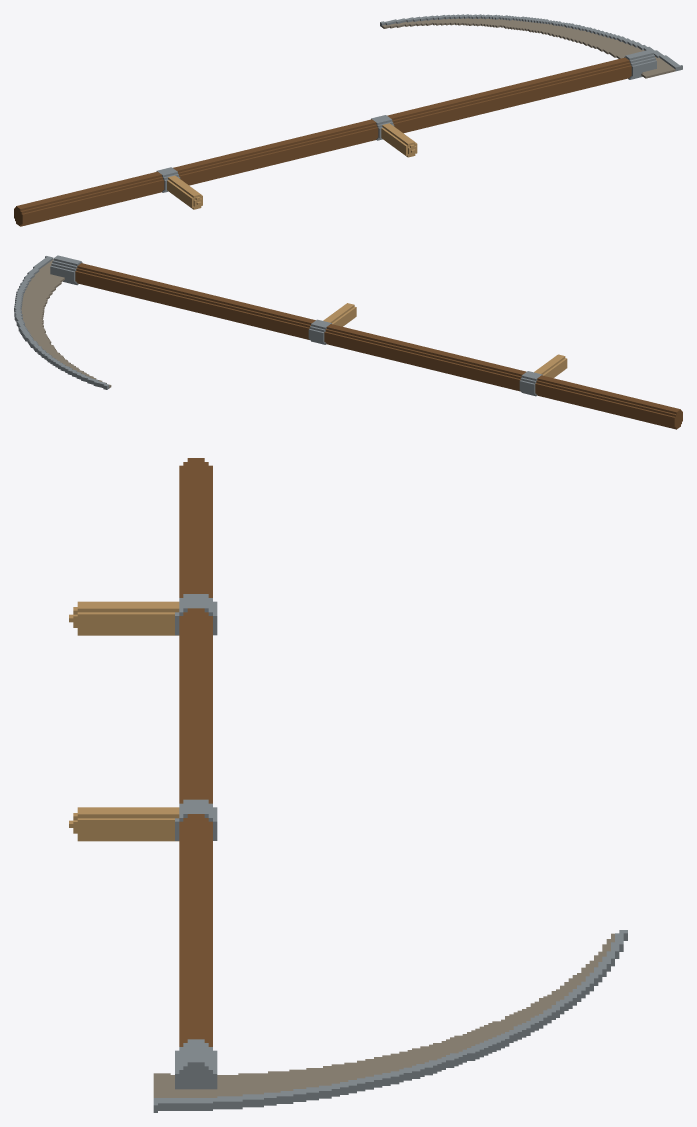
File: scythe.glb
The picture shows the model from 3 angles, top to bottom: view 1: azimuth 30°, elevation 25°; view 2: azimuth 150°, elevation 25°; view 3: azimuth 270°, elevation 25°; orthographic projection. The views are drawn at different scales.
Visible parts, largest first — view 1: scythe:compound; view 2: scythe:compound; view 3: scythe:compound.
Boxes of the visible parts, x1,y1,x2,y2 form: scythe:compound: [14, 14, 682, 226]; scythe:compound: [14, 255, 682, 429]; scythe:compound: [69, 458, 627, 1112].
Bounding box in the file's own units: 1.4 × 0.044 × 0.528.
